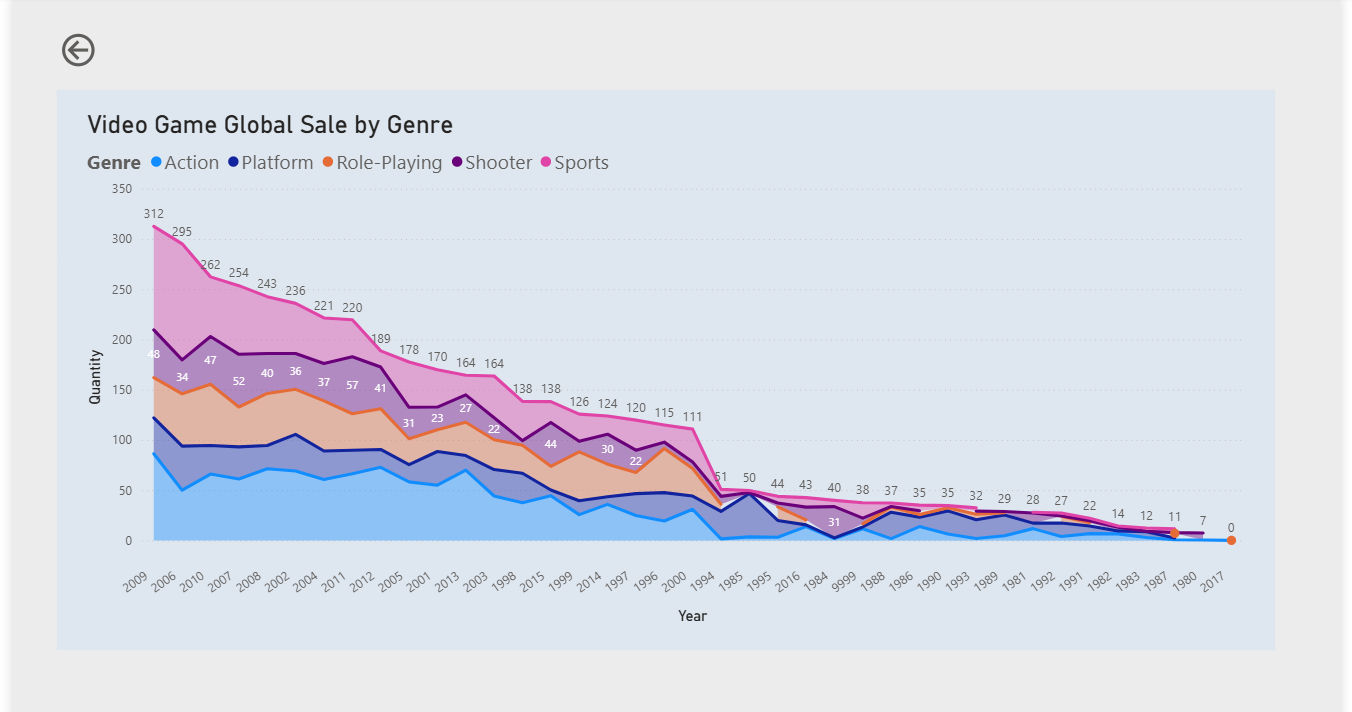

This screenshot's page, from the dashboard's own definition file:
{"tool":"powerbi","page":{"name":"Page 2","canvas":[1280,720],"ordinal":1},"visuals":[{"type":"group","id":"g1","title":"Group 1","box":[41.6,90,1175.5,540.1],"z":0},{"type":"shape","box":[41.6,90,1176,540.7],"z":1,"group":"g1"},{"type":"stackedAreaChart","fields":{"Category":["vgsales.Year Only"],"Y":["vgsales.Global Sale Total"],"Series":["vgsales.Genre"]},"box":[65.8,108.8,1125.8,501.1],"z":501,"group":"g1"},{"type":"actionButton","box":[41.6,30.9,96.7,41.6],"z":1000},{"type":"actionButton","box":[1167.4,32.2,99.4,40.3],"z":2000}]}

Visuals, with their boxes on the page's 1280x720 design canvas (x1, y1, x2, y2). These are canvas units, not pixel positions in the 1352x712 screenshot, which may show the page scaled, cropped or inside an application window:
"Group 1" group: box=[42, 90, 1217, 630]
shape: box=[42, 90, 1218, 631]
stackedAreaChart - vgsales.Year Only x vgsales.Global Sale Total: box=[66, 109, 1192, 610]
actionButton: box=[42, 31, 138, 72]
actionButton: box=[1167, 32, 1267, 72]
